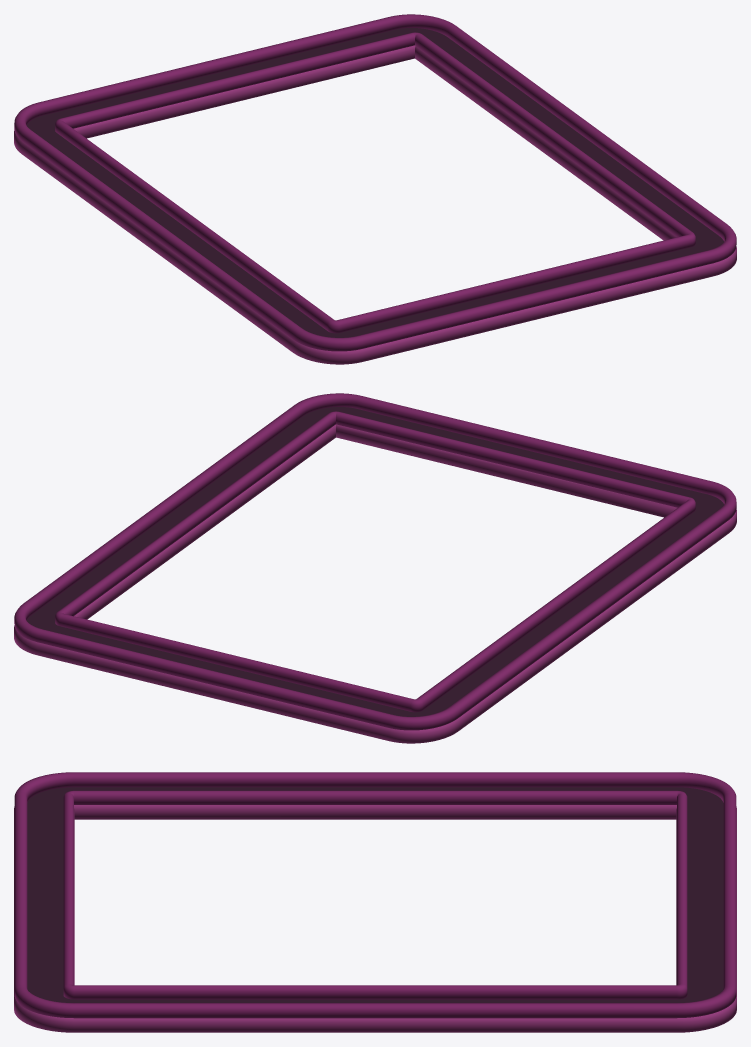
Rendered from conveyor_rail.glb.
3 views of the same model, one above another, from view 1: azimuth 30°, elevation 25°; view 2: azimuth 150°, elevation 25°; view 3: azimuth 270°, elevation 25° (orthographic). The views are drawn at different scales.
Visible parts, largest first — view 1: rail; view 2: rail; view 3: rail.
Boxes of the visible parts, box(x1,y1,x2,y2) form: rail: box(14, 14, 736, 364); rail: box(14, 393, 736, 743); rail: box(14, 772, 736, 1032).
Size of the model in its own units: 0.9226 by 0.0471 by 1.19.
